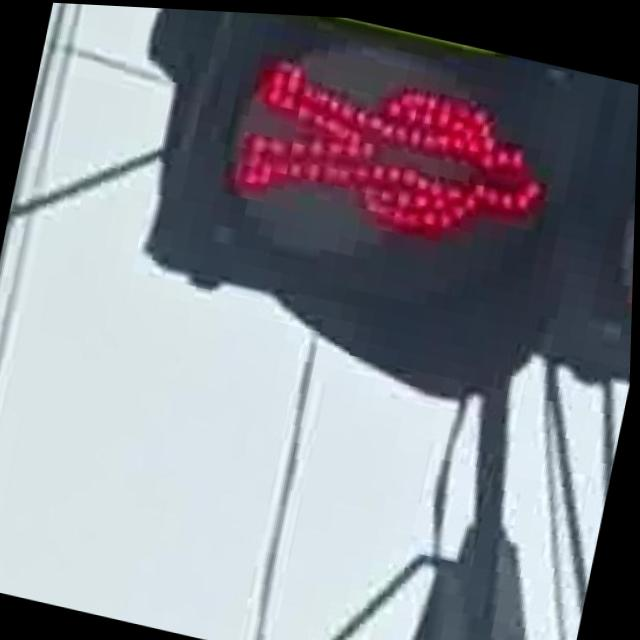red_light: (209, 32, 589, 282)
